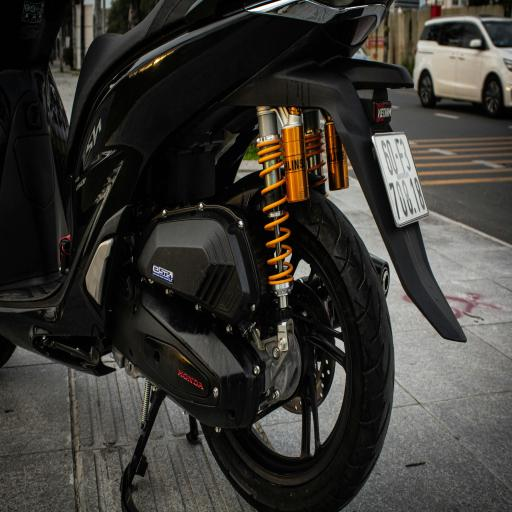place: (375, 130, 435, 224)
